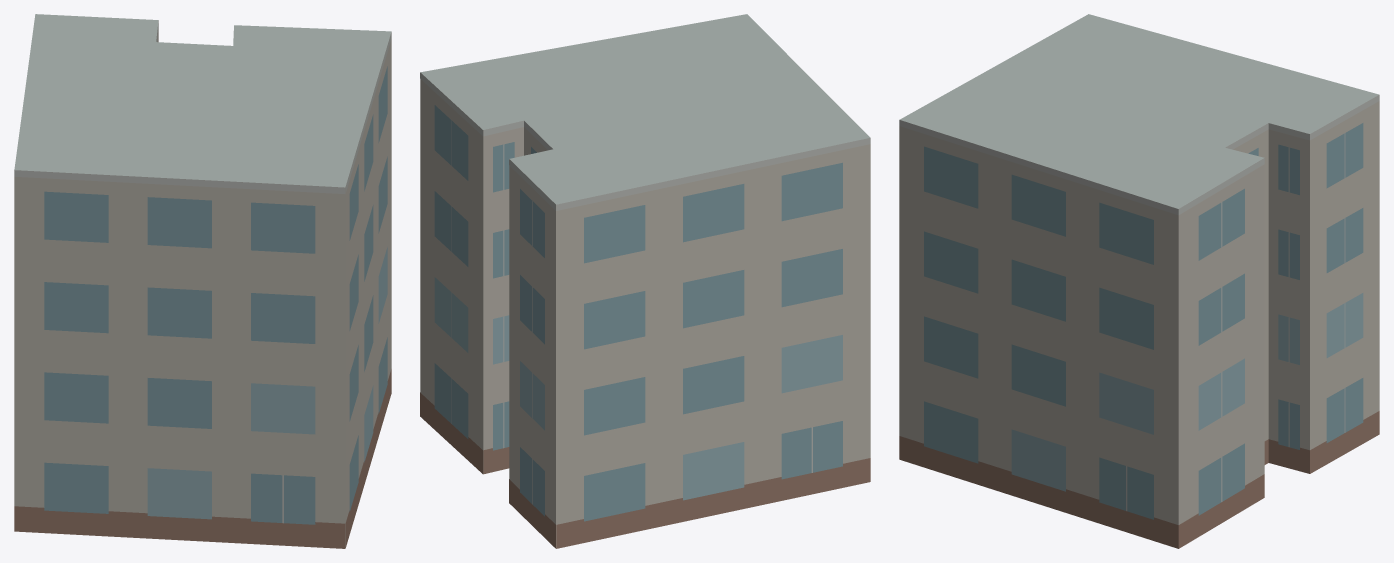
File: survey-upis-32611629.glb
3 views of the same model, side by side, from view 1: azimuth 30°, elevation 25°; view 2: azimuth 150°, elevation 25°; view 3: azimuth 270°, elevation 25° (orthographic). The views are drawn at different scales.
Visible parts, largest first — view 1: survey-upis-32611629.tmp; view 2: survey-upis-32611629.tmp; view 3: survey-upis-32611629.tmp.
Boxes of the visible parts, left/top/right/bottom form: survey-upis-32611629.tmp: left=14, top=14, right=391, bottom=548; survey-upis-32611629.tmp: left=420, top=14, right=870, bottom=548; survey-upis-32611629.tmp: left=899, top=14, right=1379, bottom=548.
Size of the model in its own units: 16.26 by 13.2 by 16.91.
